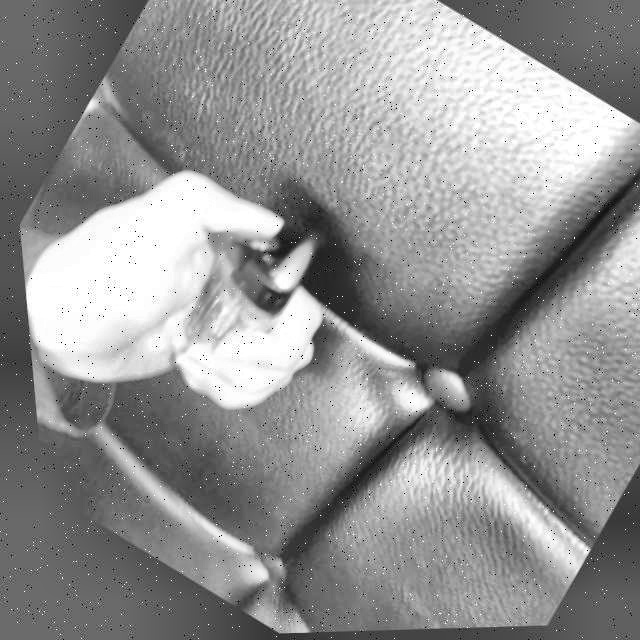Fire: (256, 226, 322, 297)
